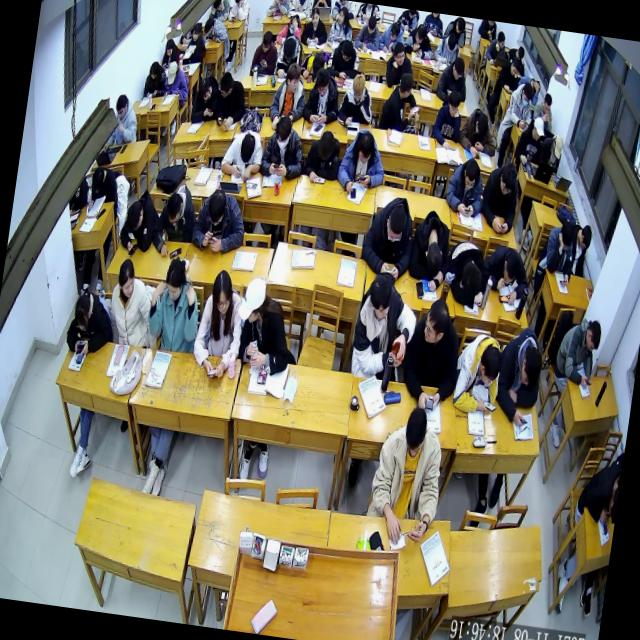bow: (492, 326, 546, 428), (452, 330, 506, 416), (405, 208, 454, 292), (191, 187, 250, 256), (64, 290, 117, 358), (442, 238, 491, 308), (482, 244, 532, 306), (118, 190, 162, 256), (220, 126, 266, 182), (302, 127, 345, 186), (458, 107, 502, 160), (190, 75, 220, 125), (402, 22, 436, 59), (378, 20, 407, 54), (275, 12, 303, 46), (202, 16, 232, 44), (502, 44, 528, 76), (300, 51, 328, 80), (209, 0, 232, 23), (420, 58, 434, 66)
down: (402, 407, 429, 460), (366, 275, 394, 321), (210, 269, 236, 315), (163, 257, 186, 302), (479, 346, 504, 386), (385, 200, 408, 243), (520, 347, 544, 388), (205, 188, 227, 226), (72, 294, 92, 331), (272, 116, 292, 150), (584, 320, 604, 354), (502, 250, 520, 286), (498, 163, 517, 197), (165, 192, 183, 226), (356, 130, 374, 163), (125, 201, 144, 232), (462, 160, 479, 191), (239, 132, 256, 162), (318, 134, 334, 164), (558, 222, 574, 252), (350, 73, 366, 102), (446, 89, 462, 118), (314, 68, 329, 98), (90, 166, 106, 193), (473, 114, 489, 140), (578, 223, 593, 250), (114, 94, 128, 120), (532, 116, 546, 142), (282, 37, 297, 60), (452, 57, 466, 81), (260, 30, 274, 54), (520, 82, 534, 106), (552, 134, 564, 160), (340, 40, 354, 62), (311, 54, 326, 74), (166, 62, 178, 84), (414, 23, 426, 44), (447, 32, 458, 54), (288, 15, 300, 35), (389, 22, 401, 42), (542, 94, 553, 115), (148, 60, 159, 80), (366, 15, 377, 35), (203, 16, 214, 35), (510, 59, 520, 77), (515, 46, 526, 61), (165, 40, 174, 57), (234, 0, 244, 6)
lookup: (192, 22, 202, 42), (310, 7, 320, 26)
sit: (364, 404, 449, 550), (347, 274, 420, 386), (398, 297, 466, 414), (232, 274, 304, 376), (189, 268, 249, 382), (145, 253, 206, 354), (104, 256, 160, 348), (359, 194, 418, 280), (152, 182, 200, 260), (552, 316, 604, 388), (336, 126, 389, 196), (258, 114, 308, 182), (478, 160, 523, 235), (268, 61, 310, 133), (444, 154, 488, 220), (380, 70, 424, 134), (537, 218, 578, 286), (302, 67, 343, 125), (337, 73, 378, 130), (213, 70, 250, 132), (430, 88, 466, 150), (435, 55, 471, 104), (382, 40, 416, 91), (111, 92, 142, 146), (514, 115, 546, 167), (324, 38, 362, 80), (88, 166, 121, 212), (505, 80, 536, 128), (250, 29, 280, 78), (274, 33, 304, 80), (568, 223, 594, 277), (182, 20, 210, 66), (300, 6, 331, 46), (353, 13, 383, 53), (162, 61, 192, 100), (328, 5, 356, 44), (538, 132, 564, 174), (530, 92, 556, 132), (434, 30, 462, 65), (144, 60, 168, 99), (496, 57, 522, 93), (484, 29, 508, 66), (162, 38, 182, 69), (227, 0, 251, 23)
